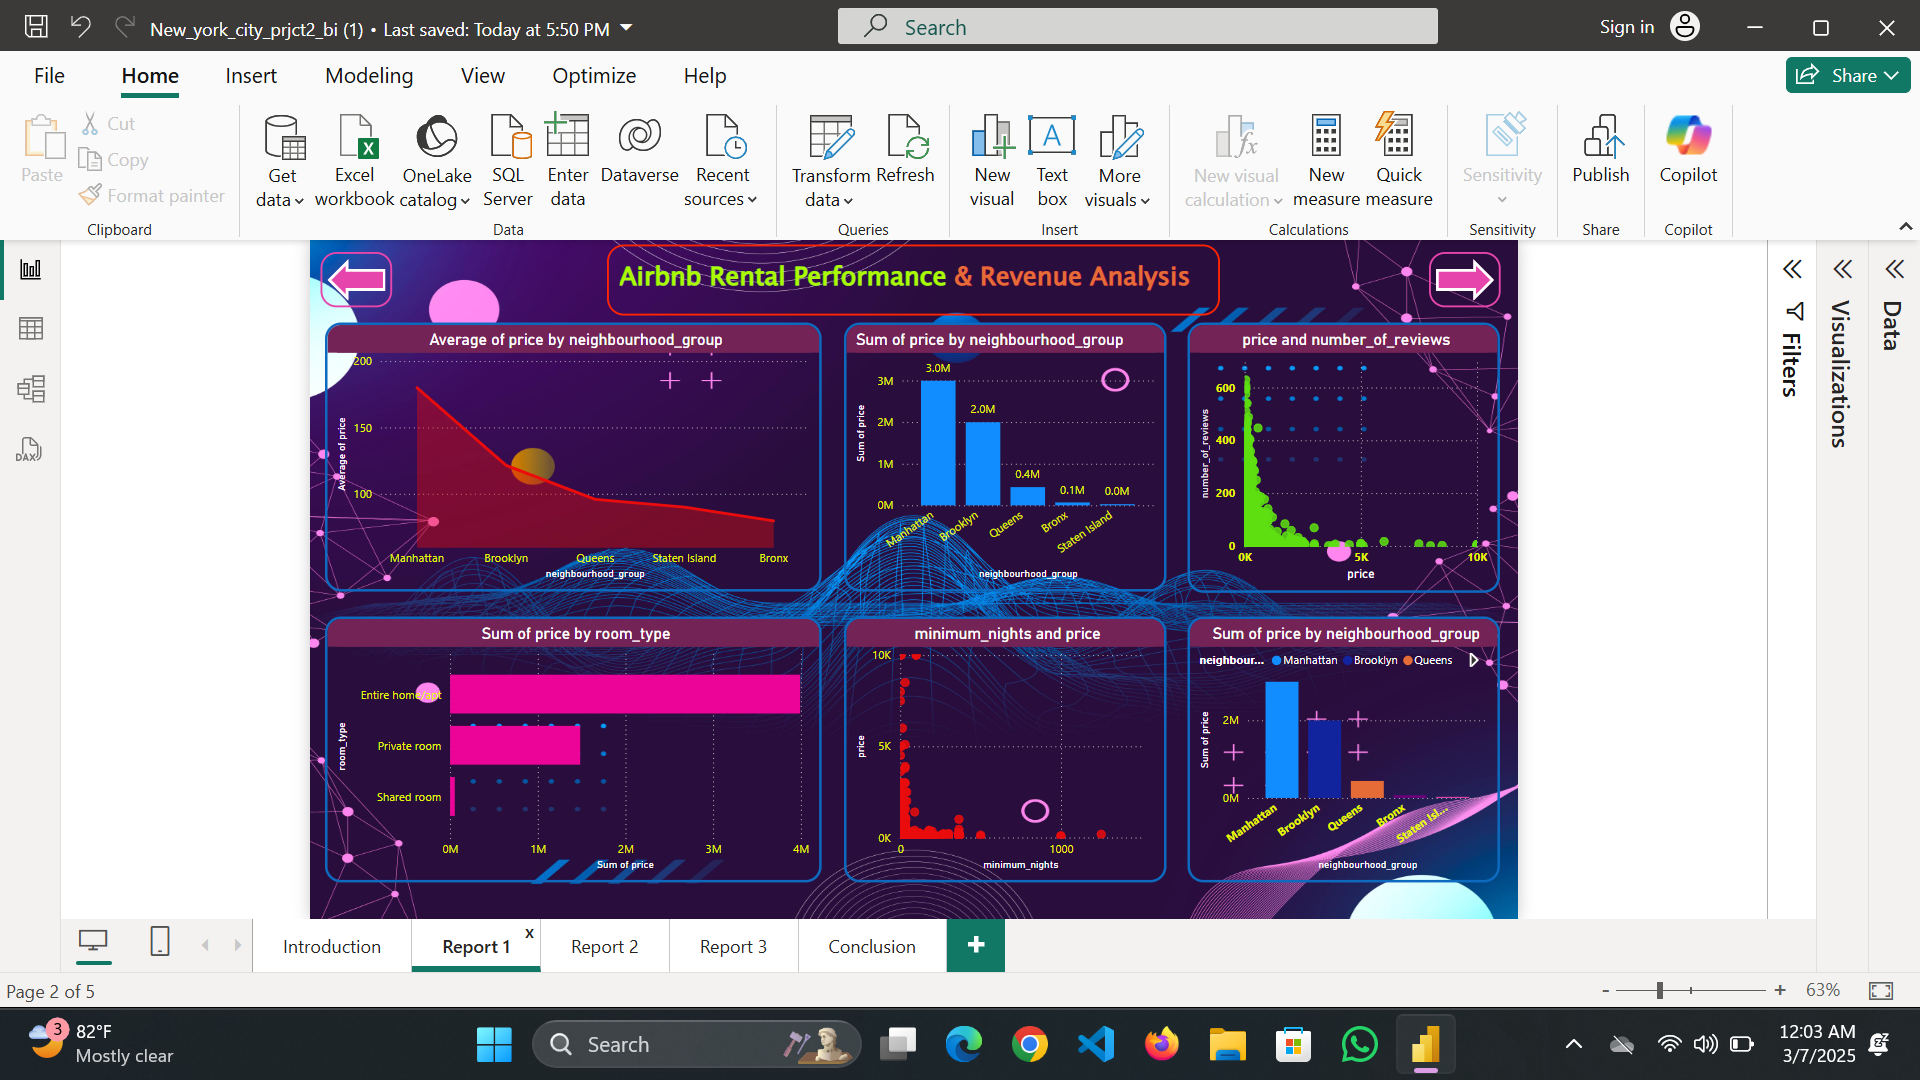

The page's visual inventory and layout, read from the dashboard file:
{"tool":"powerbi","page":{"name":"Report 1","canvas":[1280,720],"ordinal":1},"visuals":[{"type":"barChart","fields":{"Category":["AB_NYC_2019.room_type"],"Y":["Sum(AB_NYC_2019.price)"]},"box":[16.5,400,527,281.7],"z":0},{"type":"columnChart","fields":{"Category":["AB_NYC_2019.neighbourhood_group"],"Y":["Sum(AB_NYC_2019.price)"]},"box":[566.1,87.8,341.7,285.2],"z":1000},{"type":"scatterChart","fields":{"X":["AB_NYC_2019.price"],"Y":["AB_NYC_2019.number_of_reviews"]},"box":[930.4,87.8,331.3,287],"z":2000},{"type":"areaChart","fields":{"Category":["AB_NYC_2019.neighbourhood_group"],"Y":["Avg(AB_NYC_2019.price)"]},"box":[16.5,87,527,285.2],"z":3000},{"type":"columnChart","title":"Sum of price by neighbourhood_group ","fields":{"Y":["Sum(AB_NYC_2019.price)"],"Category":["AB_NYC_2019.neighbourhood_group"],"Series":["AB_NYC_2019.neighbourhood_group"]},"box":[930.4,400,331.3,281.7],"z":4000},{"type":"scatterChart","fields":{"X":["AB_NYC_2019.minimum_nights"],"Y":["AB_NYC_2019.price"]},"box":[566.1,400,341.7,281.7],"z":5000},{"type":"textbox","box":[315.4,4.4,650.2,75.1],"z":6000},{"type":"shape","box":[1186,12.9,75.9,58.7],"z":7000},{"type":"shape","box":[10.4,12.9,75.9,58.7],"z":8000}]}

Visuals, with their boxes on the page's 1280x720 design canvas (x1, y1, x2, y2). These are canvas units, not pixel positions in the 1920x1080 screenshot, which may show the page scaled, cropped or inside an application window:
barChart - AB_NYC_2019.room_type x Sum(AB_NYC_2019.price): bbox=(16, 400, 544, 682)
columnChart - AB_NYC_2019.neighbourhood_group x Sum(AB_NYC_2019.price): bbox=(566, 88, 908, 373)
scatterChart - AB_NYC_2019.price x AB_NYC_2019.number_of_reviews: bbox=(930, 88, 1262, 375)
areaChart - AB_NYC_2019.neighbourhood_group x Avg(AB_NYC_2019.price): bbox=(16, 87, 544, 372)
"Sum of price by neighbourhood_group " columnChart: bbox=(930, 400, 1262, 682)
scatterChart - AB_NYC_2019.minimum_nights x AB_NYC_2019.price: bbox=(566, 400, 908, 682)
textbox: bbox=(315, 4, 966, 80)
shape: bbox=(1186, 13, 1262, 72)
shape: bbox=(10, 13, 86, 72)
